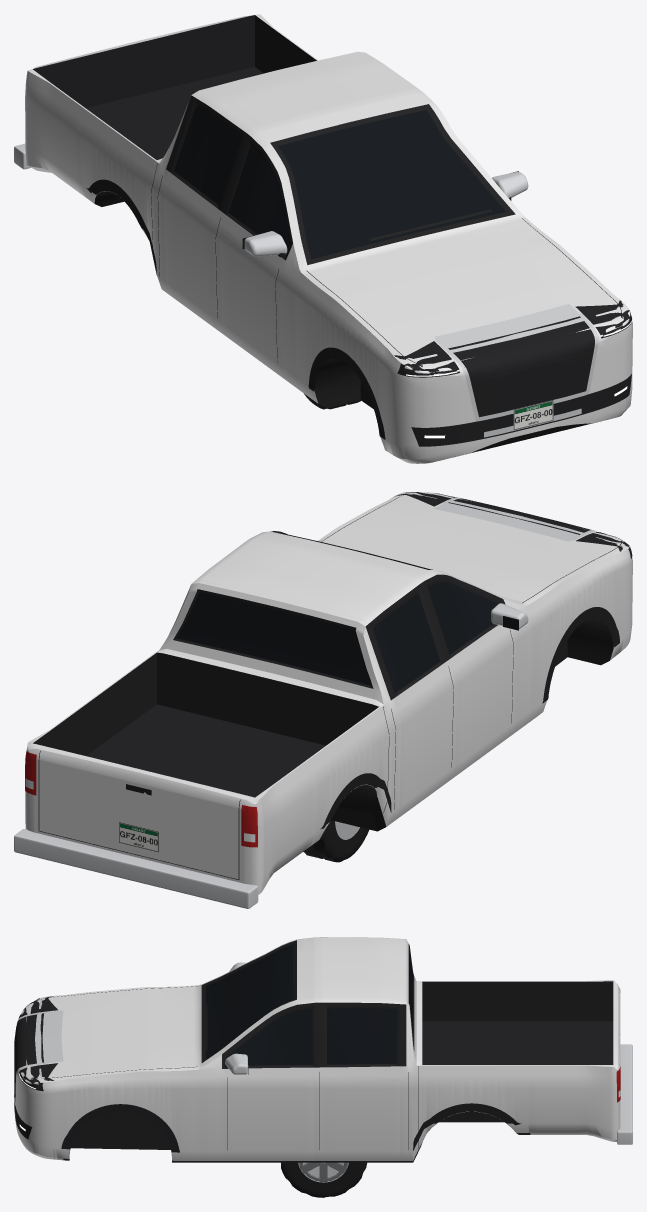
The model's file is toyota-hilux.glb.
The picture shows the model from 3 angles, top to bottom: view 1: azimuth 30°, elevation 25°; view 2: azimuth 150°, elevation 25°; view 3: azimuth 270°, elevation 25°; orthographic projection. The views are drawn at different scales.
Parts seen in each view (by area): view 1: body; view 2: body, wheel; view 3: body, wheel.
Part boxes in pixels (left/top/right/bottom): body: left=14, top=14, right=632, bottom=463; body: left=14, top=492, right=632, bottom=908; wheel: left=303, top=820, right=368, bottom=862; body: left=14, top=937, right=632, bottom=1162; wheel: left=281, top=1162, right=366, bottom=1197.
Bounding box in the file's own units: 2.11 × 2.16 × 5.33.
Materials: 1 (1 with a texture image).
